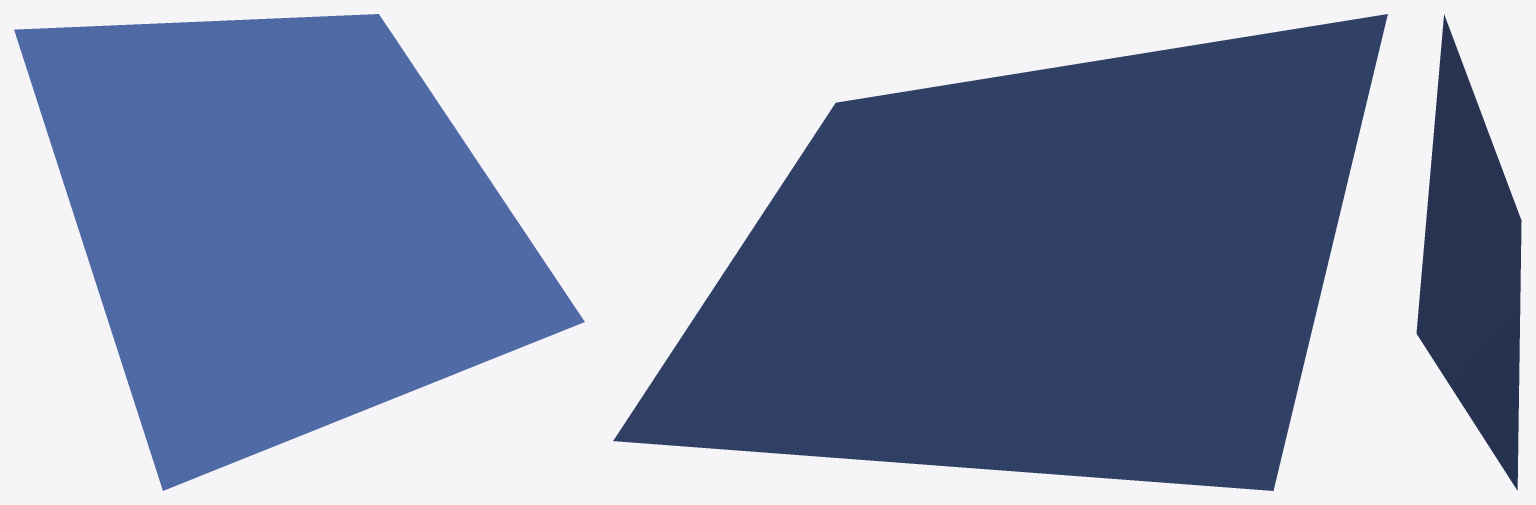
File: SM_Glass_Top_Right.fbx
The picture shows the model from 3 angles, left to right: view 1: azimuth 30°, elevation 25°; view 2: azimuth 150°, elevation 25°; view 3: azimuth 270°, elevation 25°; orthographic projection. The views are drawn at different scales.
Parts seen in each view (by area): view 1: Glass_Top_Right_Mesh; view 2: Glass_Top_Right_Mesh; view 3: Glass_Top_Right_Mesh.
Boxes of the visible parts, bbox=[...] form: Glass_Top_Right_Mesh: bbox=[14, 14, 584, 490]; Glass_Top_Right_Mesh: bbox=[613, 14, 1387, 490]; Glass_Top_Right_Mesh: bbox=[1416, 14, 1521, 490].
Bounding box in the file's own units: 171 × 127 × 41.17.
